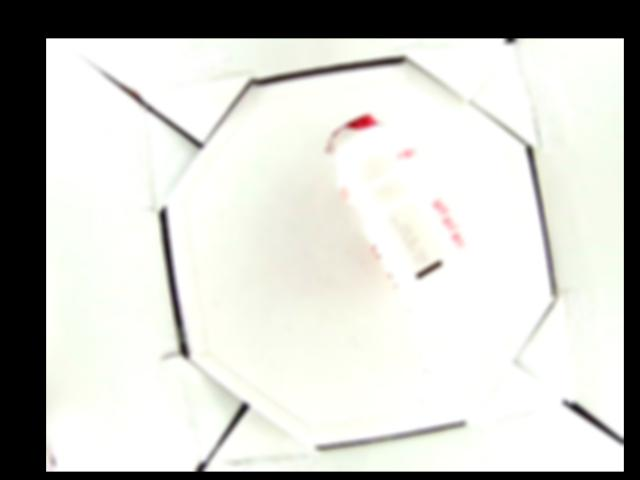Bottle: (324, 114, 471, 295)
